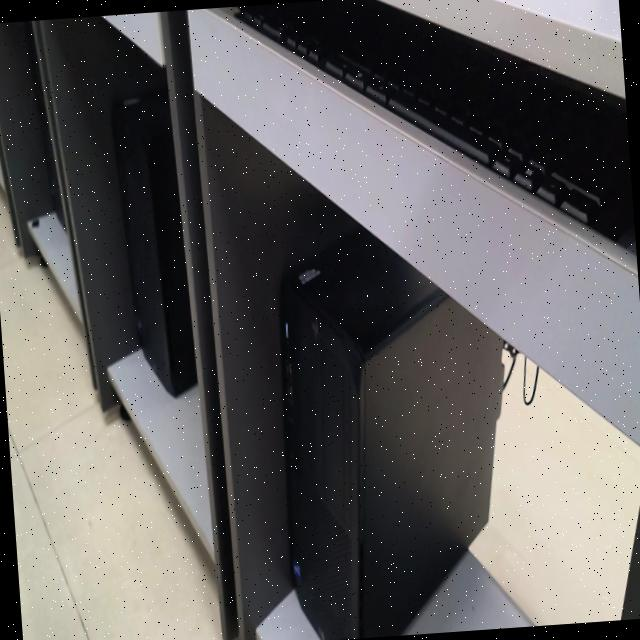Cpu: (279, 221, 502, 640), (111, 88, 195, 394), (22, 19, 63, 227)
Keyboard: (233, 0, 635, 246)
